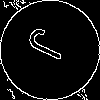J: (25, 25, 77, 67)
